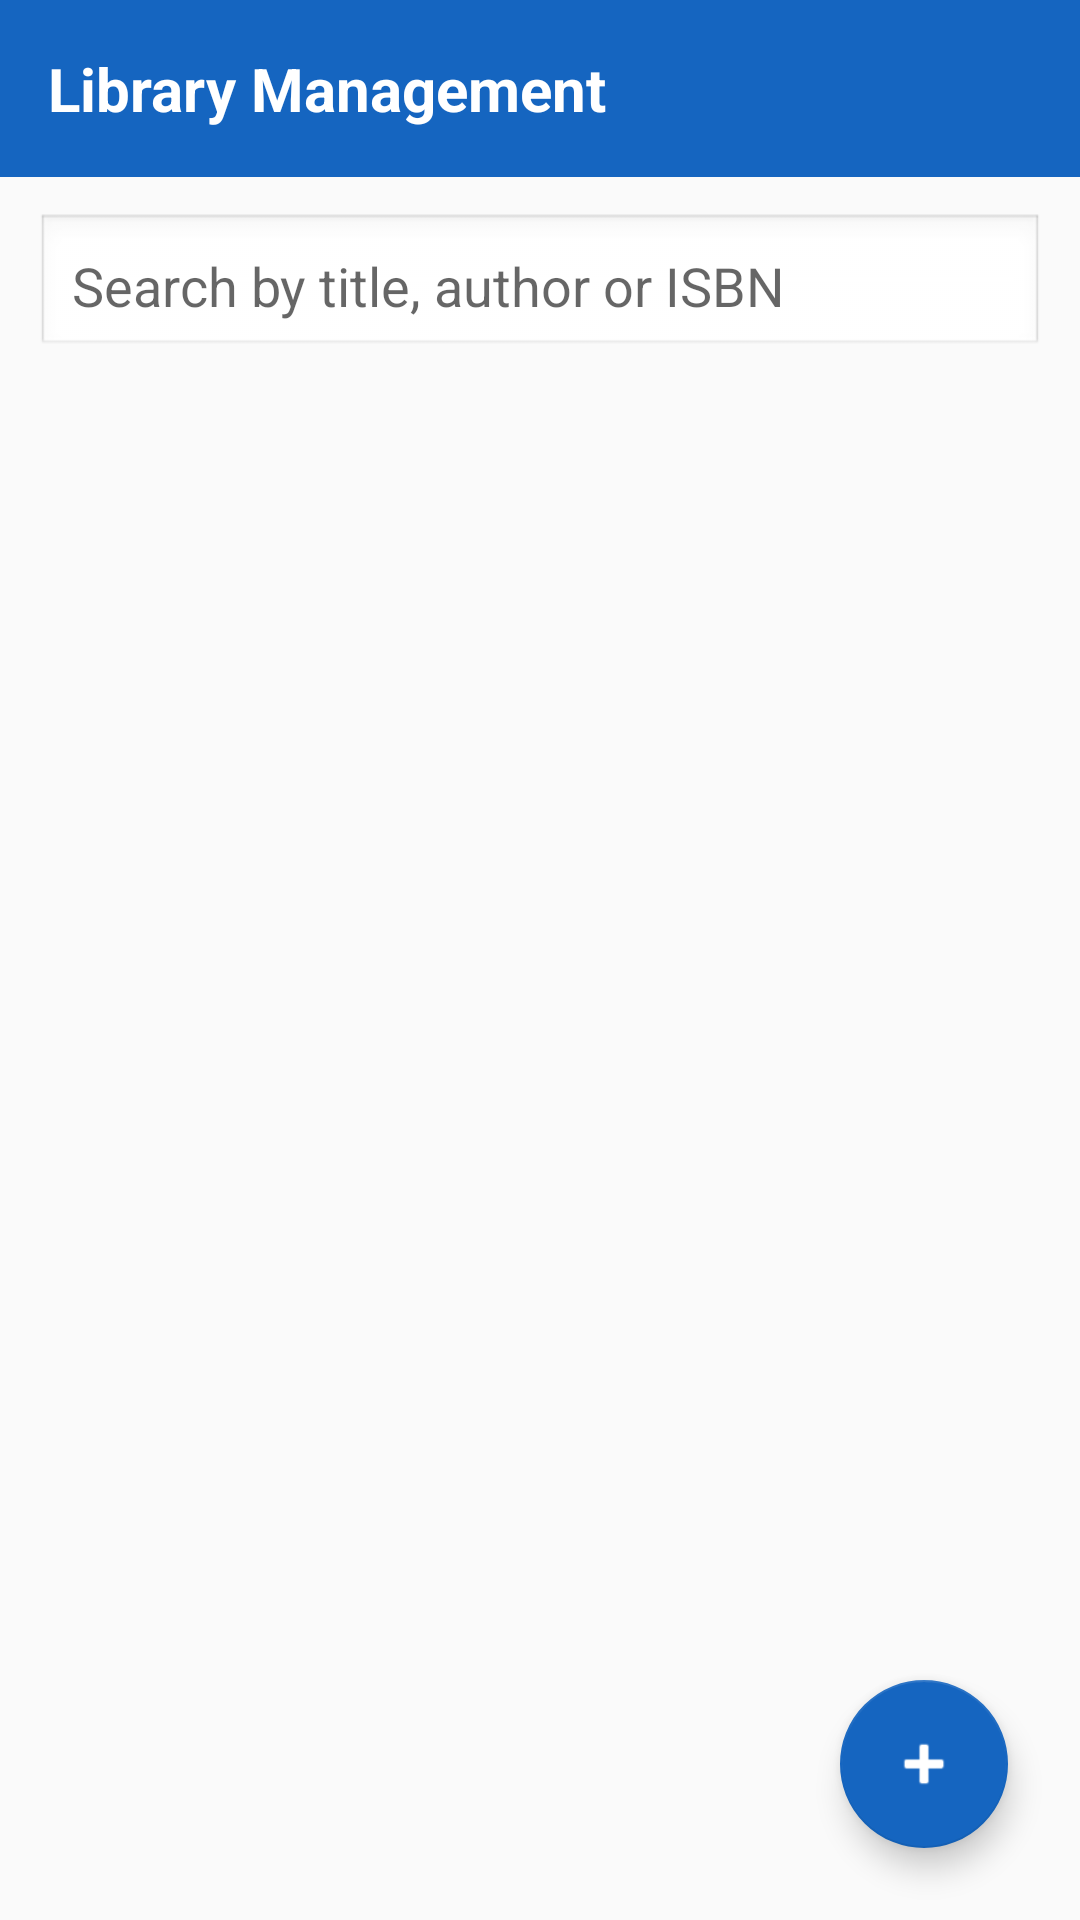

Icons on this 1080px×1920px Android screen, each with the point to tap as (x=x, y=y):
Add Book: (x=924, y=1764)
